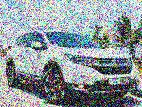car: (4, 29, 138, 102)
